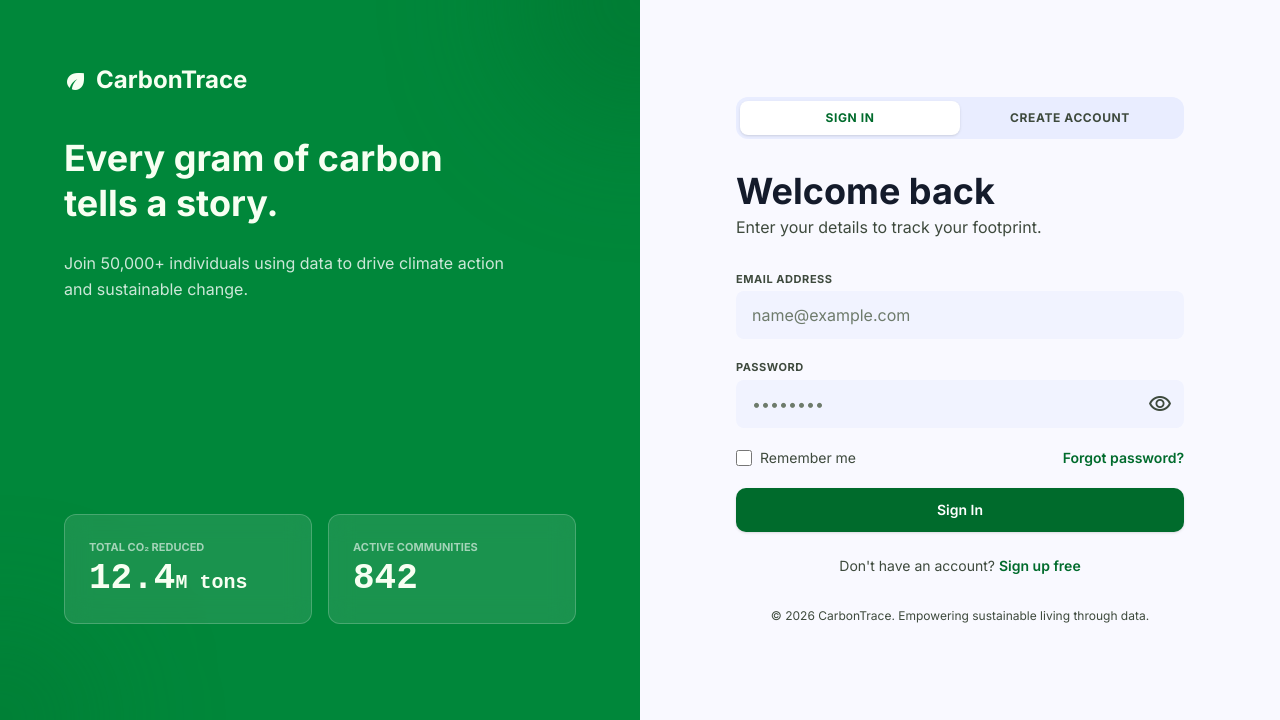
Test case: LoginForm › shows validation error when fields are empty
Click the button "Sign In": click(960, 510) [736,488,1184,532]
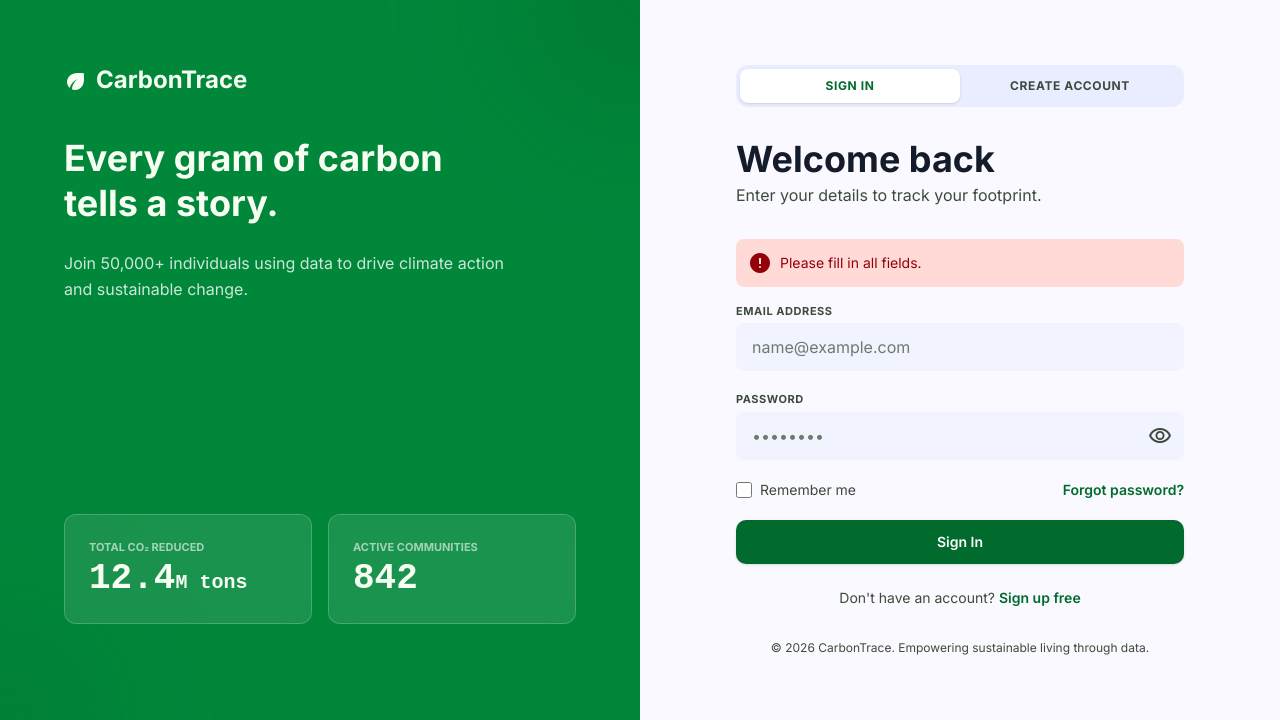
Check: the message reads "Please fill in all fields.", box [780,254,922,270]
